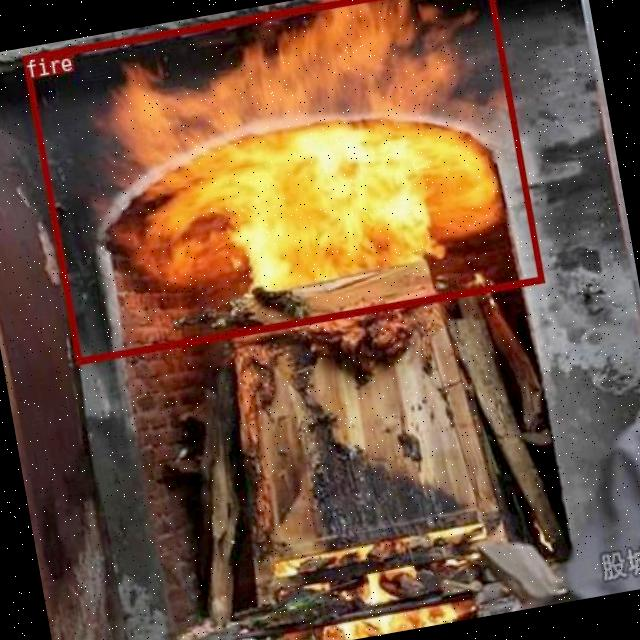fire: (21, 0, 543, 363)
